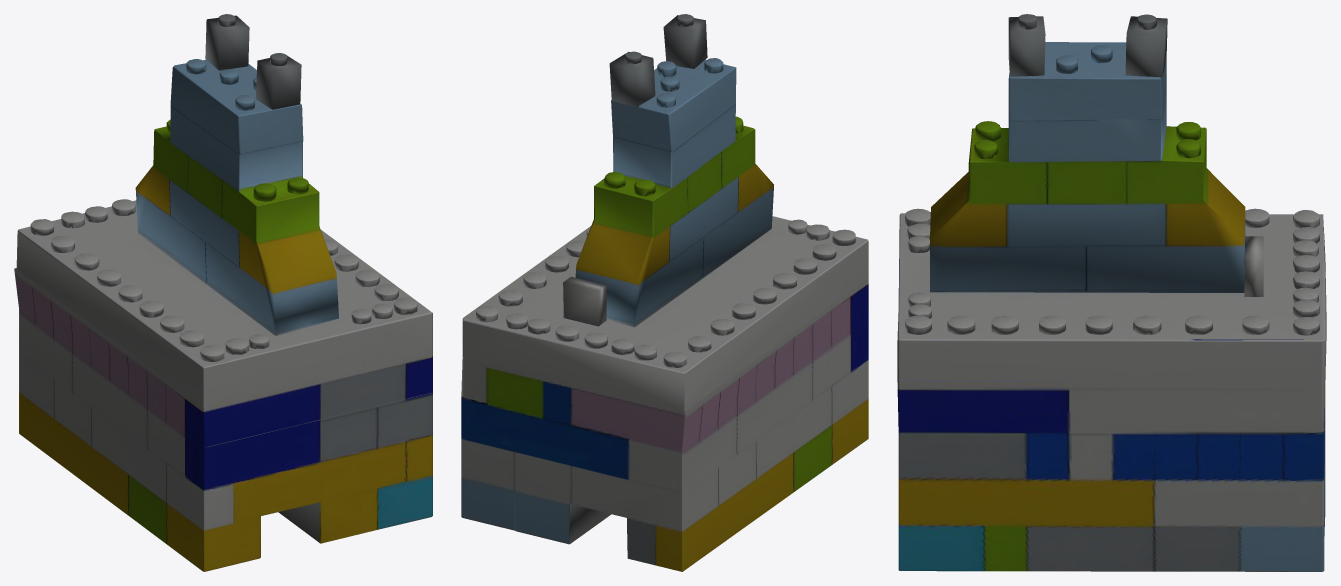
File: object_14_asset_9a3f38d0.glb
3 renders of one model, left to right at view 1: azimuth 30°, elevation 25°; view 2: azimuth 150°, elevation 25°; view 3: azimuth 270°, elevation 25°, orthographic. The views are drawn at different scales.
Visible parts, largest first — view 1: tripo_node_5b3c4f9f-6b4c-48dc-81b5-807c5fd682ff; view 2: tripo_node_5b3c4f9f-6b4c-48dc-81b5-807c5fd682ff; view 3: tripo_node_5b3c4f9f-6b4c-48dc-81b5-807c5fd682ff.
Part boxes in pixels (x1,y1,x2,y2): tripo_node_5b3c4f9f-6b4c-48dc-81b5-807c5fd682ff: (14,14,432,571); tripo_node_5b3c4f9f-6b4c-48dc-81b5-807c5fd682ff: (461,14,868,571); tripo_node_5b3c4f9f-6b4c-48dc-81b5-807c5fd682ff: (897,14,1326,571).
Bounding box in the file's own units: 0.5488 × 0.998 × 0.7754.
1 material, 1 textured.
